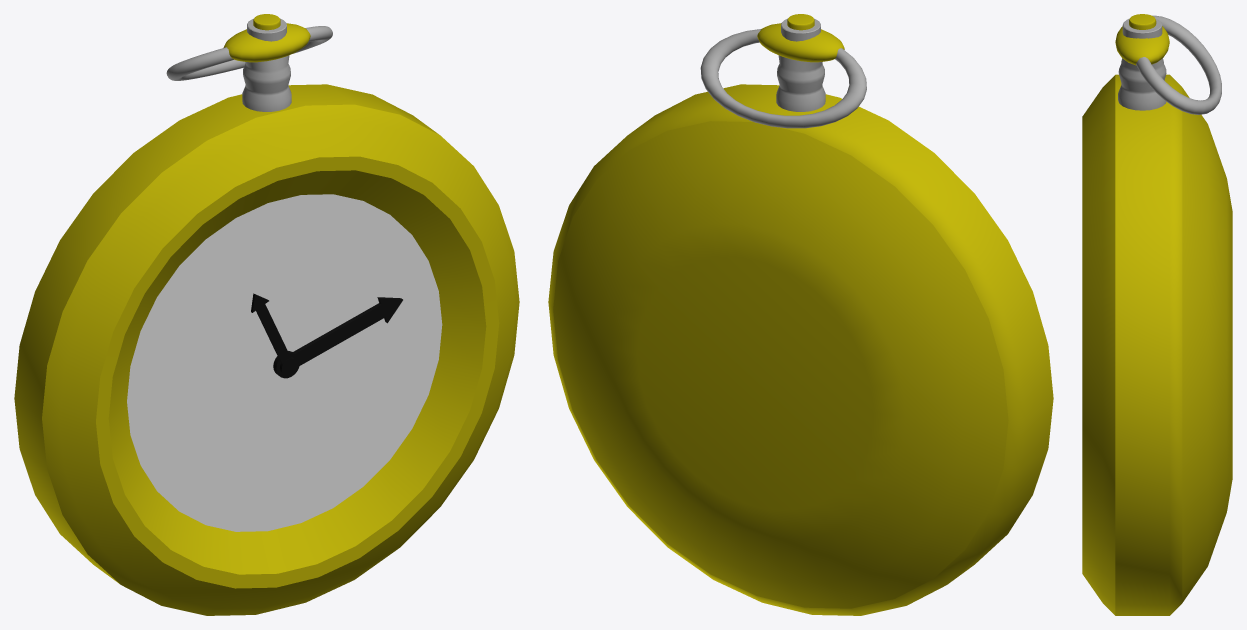
Rendered from watchModel.fbx.
3 renders of one model, left to right at view 1: azimuth 30°, elevation 25°; view 2: azimuth 150°, elevation 25°; view 3: azimuth 270°, elevation 25°, orthographic.
Visible parts, largest first — view 1: polySurface1, ClockBckgrnd1, ButtonArm, HourArm1, ButtonBase, ChainRing, HourArm2; view 2: polySurface1, ChainRing, ButtonArm, ButtonBase; view 3: polySurface1, ChainRing, ButtonArm, ButtonBase, ButtonKnob, ButtonButton.
Part boxes in pixels (x1,y1,x2,y2): polySurface1: [14, 84, 519, 615]; ClockBckgrnd1: [127, 194, 442, 531]; ButtonArm: [242, 55, 291, 111]; HourArm1: [273, 297, 402, 378]; ButtonBase: [223, 23, 310, 62]; ChainRing: [166, 26, 332, 80]; HourArm2: [251, 293, 298, 376]; polySurface1: [548, 84, 1053, 615]; ChainRing: [700, 29, 866, 128]; ButtonArm: [776, 55, 825, 111]; ButtonBase: [757, 23, 844, 62]; polySurface1: [1082, 74, 1232, 615]; ChainRing: [1136, 15, 1221, 114]; ButtonArm: [1118, 58, 1166, 110]; ButtonBase: [1115, 26, 1169, 65]; ButtonKnob: [1122, 18, 1162, 38]; ButtonButton: [1129, 14, 1156, 29].
Bounding box in the file's own units: 20 × 23.2 × 5.53.
